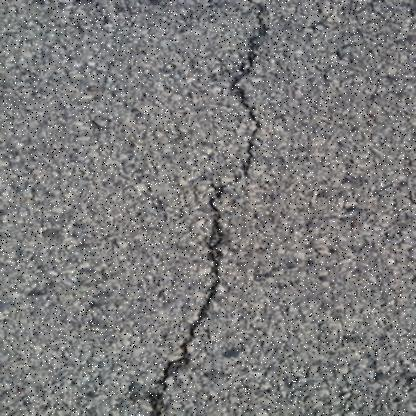Cracks: (125, 0, 283, 415)
